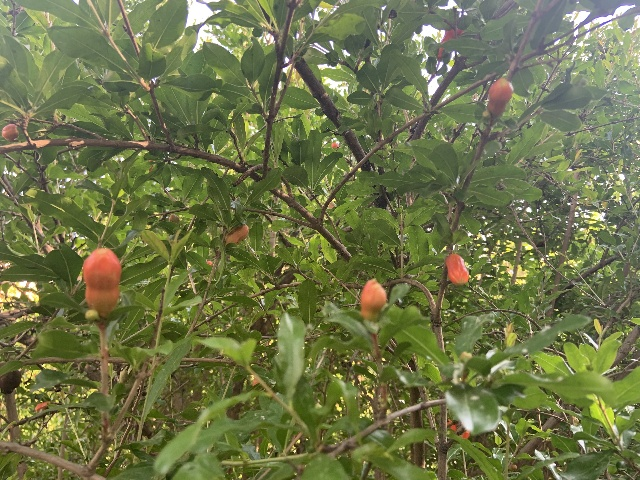bud: (82, 247, 121, 316), (360, 279, 386, 320), (487, 78, 512, 117), (437, 28, 464, 58), (445, 253, 469, 285), (224, 224, 249, 244), (1, 123, 18, 141), (35, 402, 49, 412), (169, 213, 180, 224)
